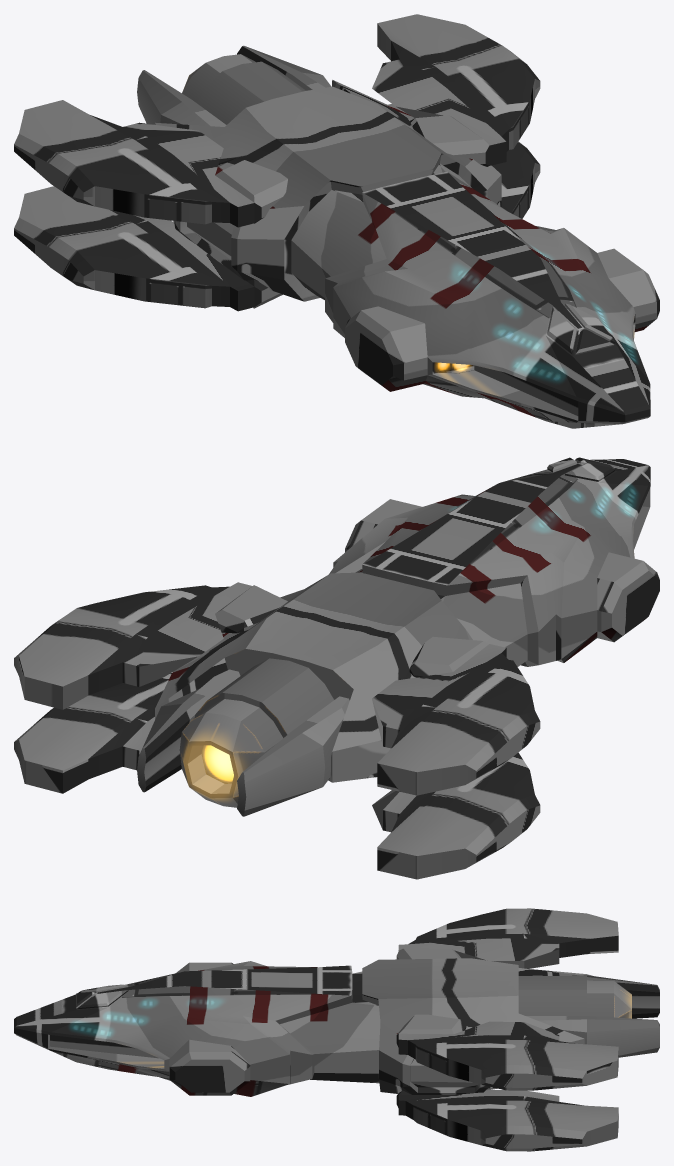
Rendered from Orinocco Mk II.fbx.
The picture shows the model from 3 angles, top to bottom: view 1: azimuth 30°, elevation 25°; view 2: azimuth 150°, elevation 25°; view 3: azimuth 270°, elevation 25°; orthographic projection. The views are drawn at different scales.
Parts seen in each view (by area): view 1: Orinocco_LOD0; view 2: Orinocco_LOD0; view 3: Orinocco_LOD0.
Part boxes in pixels (left/top/right/bottom): Orinocco_LOD0: left=14, top=14, right=659, bottom=428; Orinocco_LOD0: left=14, top=457, right=659, bottom=879; Orinocco_LOD0: left=14, top=908, right=659, bottom=1151.
Size of what is drawn, in the model's own units: 6868 by 1874 by 11481.
